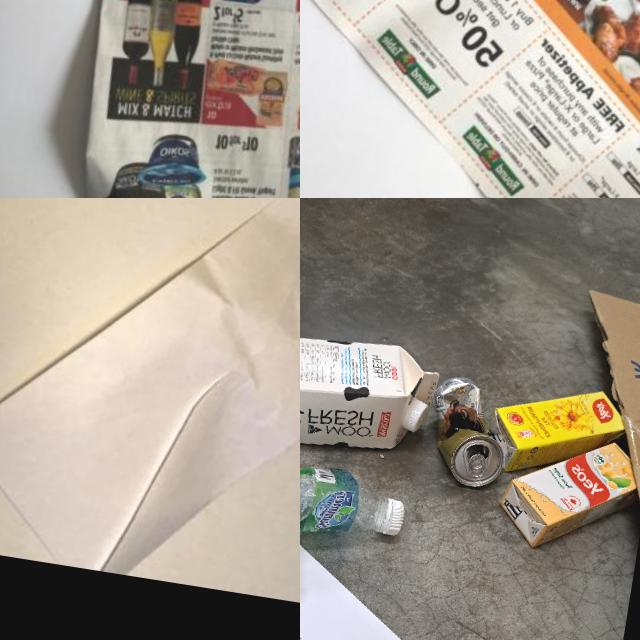aba de lata: (467, 454, 488, 481)
caixinha: (300, 313, 443, 478), (493, 427, 640, 562), (484, 374, 630, 488)
garrafa plástica: (300, 455, 388, 604)
lata: (422, 373, 516, 491)
papel: (0, 198, 300, 617), (300, 0, 640, 198), (48, 0, 300, 198), (300, 461, 492, 640)
papelão: (549, 290, 640, 541)
tampa plástica: (382, 498, 408, 538), (405, 401, 430, 435)
